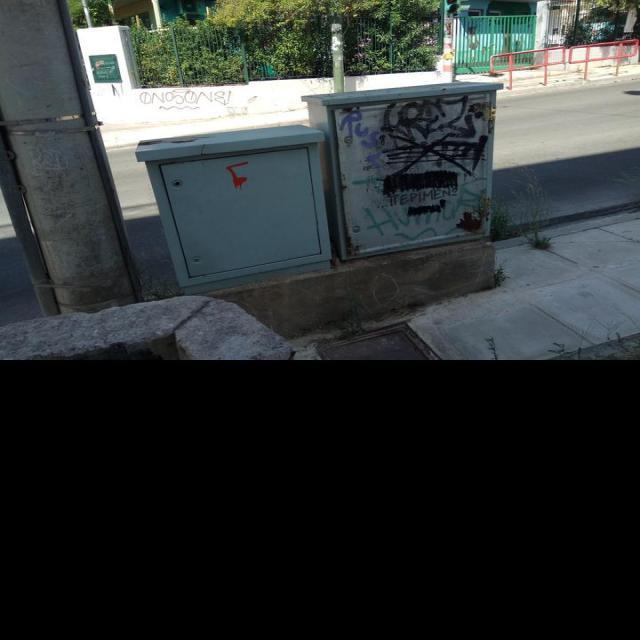nonspitting: (376, 95, 488, 218), (360, 188, 480, 238), (338, 110, 378, 166), (138, 89, 232, 112), (226, 160, 252, 190)
